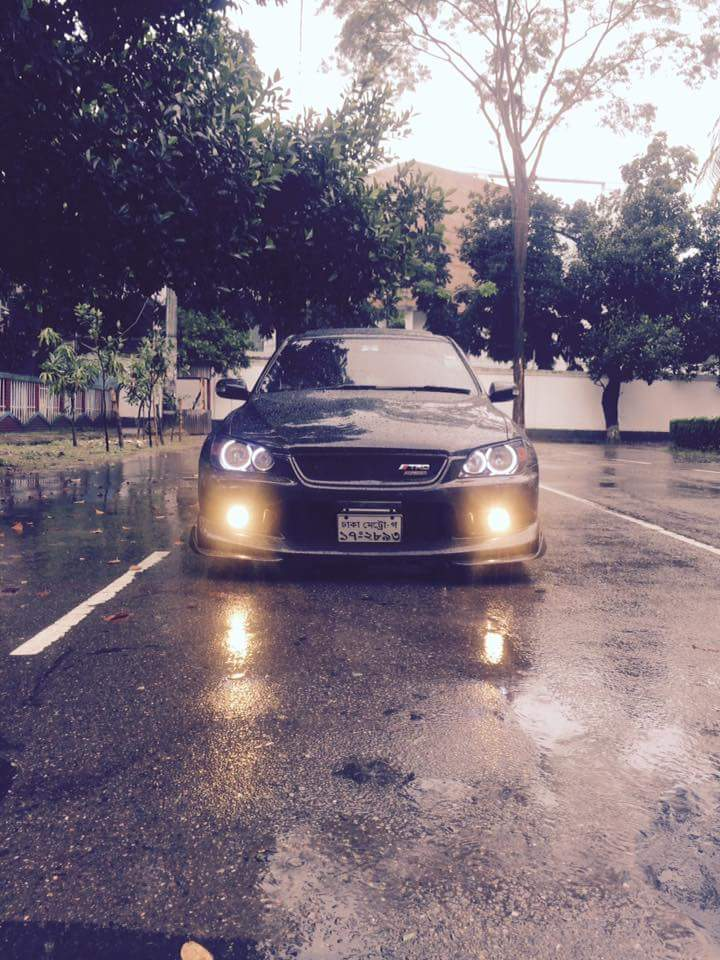registration_plate: (337, 515, 402, 543)
